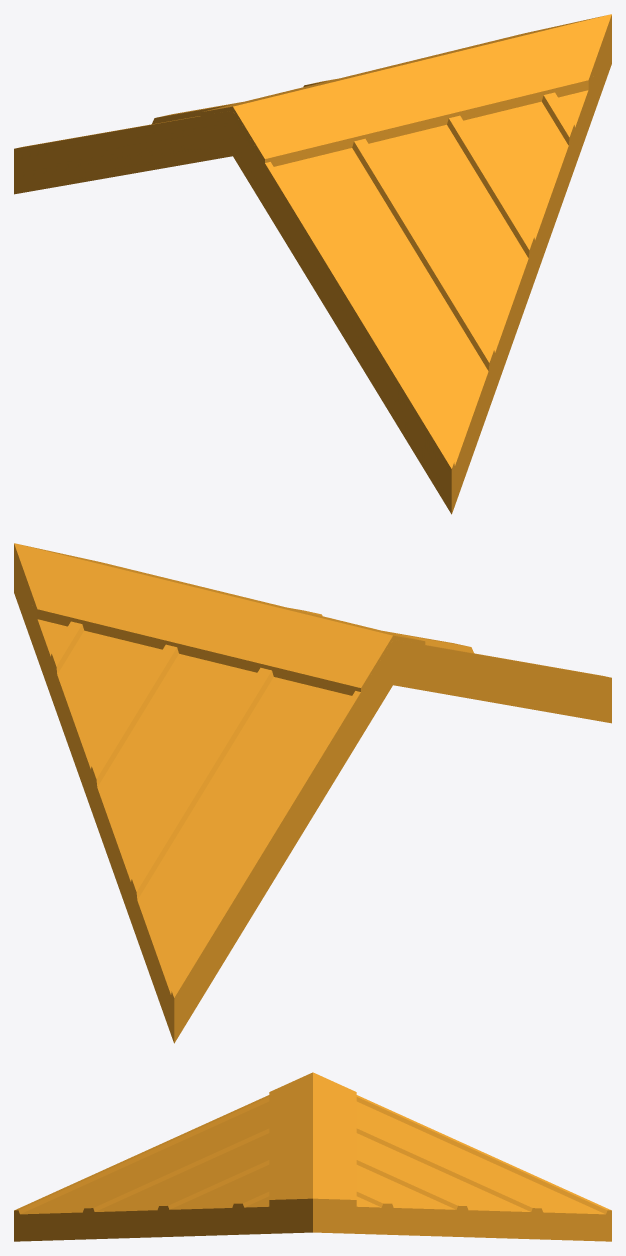
Rendered from SM_Roof_Metal_Moderate_2x2m_Diagonal_Center.fbx.
The picture shows the model from 3 angles, top to bottom: view 1: azimuth 30°, elevation 25°; view 2: azimuth 150°, elevation 25°; view 3: azimuth 270°, elevation 25°; orthographic projection. The views are drawn at different scales.
Parts seen in each view (by area): view 1: roof-metal-moderate-2x2m-diagonal-center; view 2: roof-metal-moderate-2x2m-diagonal-center; view 3: roof-metal-moderate-2x2m-diagonal-center.
Part boxes in pixels (left/top/right/bottom): roof-metal-moderate-2x2m-diagonal-center: left=14, top=14, right=611, bottom=514; roof-metal-moderate-2x2m-diagonal-center: left=14, top=543, right=611, bottom=1043; roof-metal-moderate-2x2m-diagonal-center: left=14, top=1072, right=611, bottom=1241.
Bounding box in the file's own units: 2 × 1.25 × 4.
